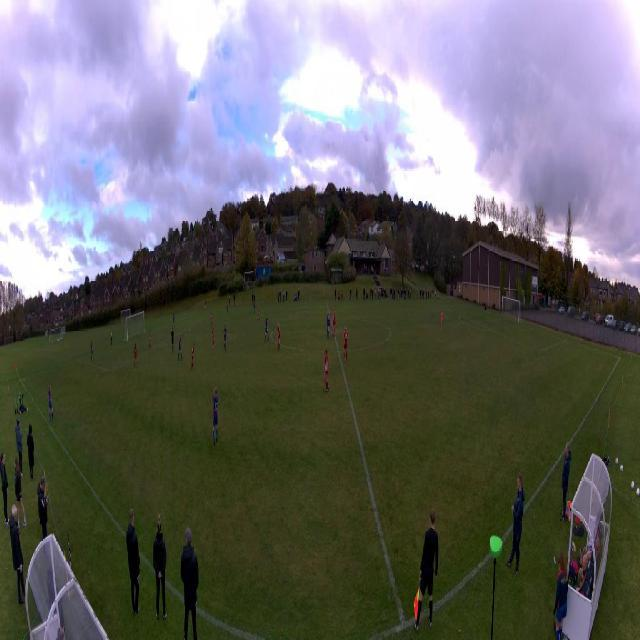player: (212, 388, 219, 446), (323, 347, 330, 392), (47, 385, 55, 423), (342, 327, 350, 363), (177, 333, 183, 361), (191, 341, 196, 370), (326, 311, 331, 339), (265, 317, 270, 342), (332, 310, 336, 338), (223, 324, 227, 351), (277, 323, 281, 349), (171, 328, 175, 354), (211, 326, 215, 348), (90, 342, 94, 360), (256, 306, 260, 324), (134, 344, 137, 368), (441, 309, 444, 331), (149, 329, 152, 349), (253, 299, 256, 315), (210, 309, 212, 326), (173, 314, 175, 330), (110, 330, 112, 346), (226, 302, 228, 314)
